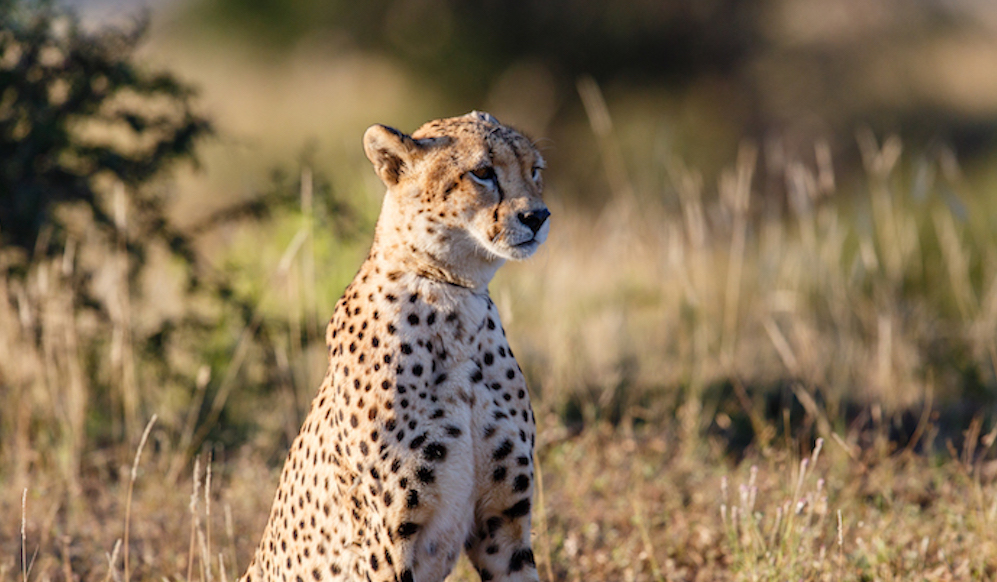cheetah: (348, 99, 569, 278)
